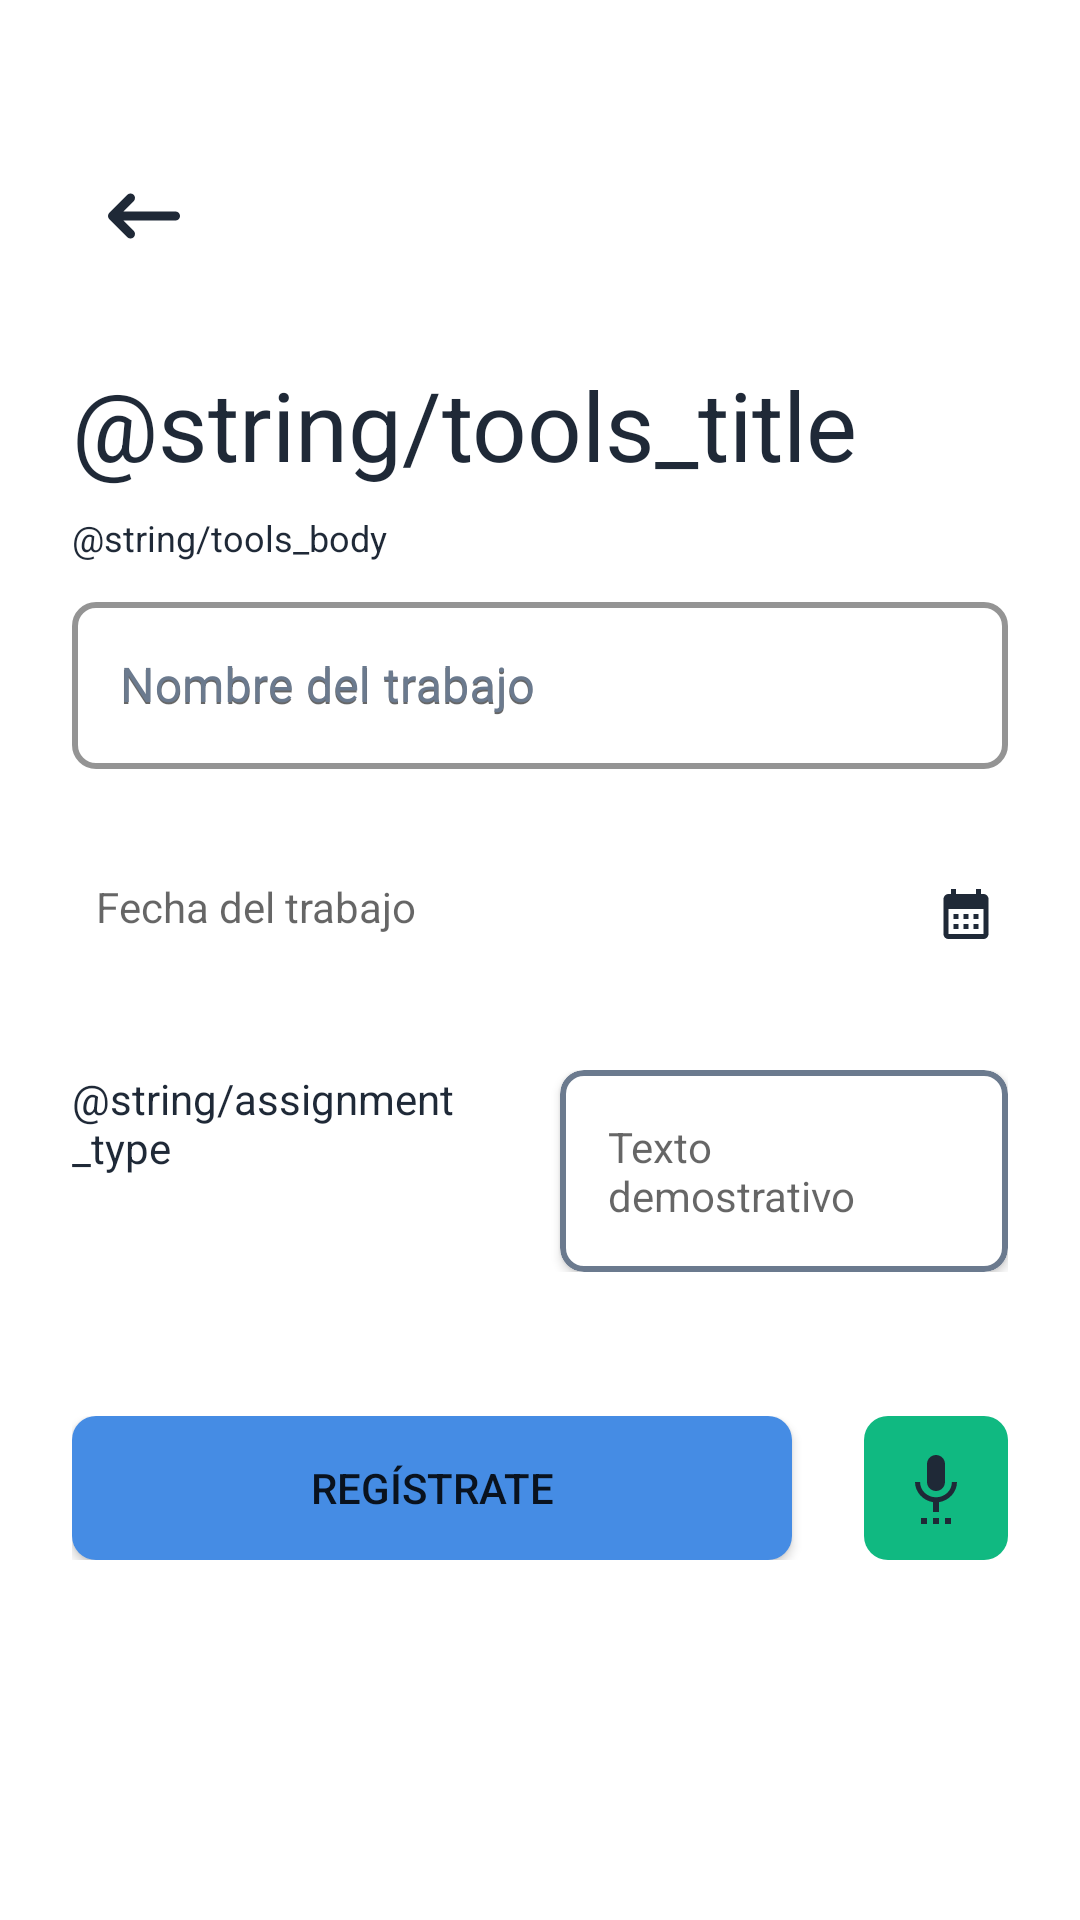

Named icons in this screenshot (1080w x 1920h) and their bounding boxes, box(x1, y1, x2, y2):
return: box(108, 193, 180, 239)
voice: box(864, 1416, 1008, 1560)
